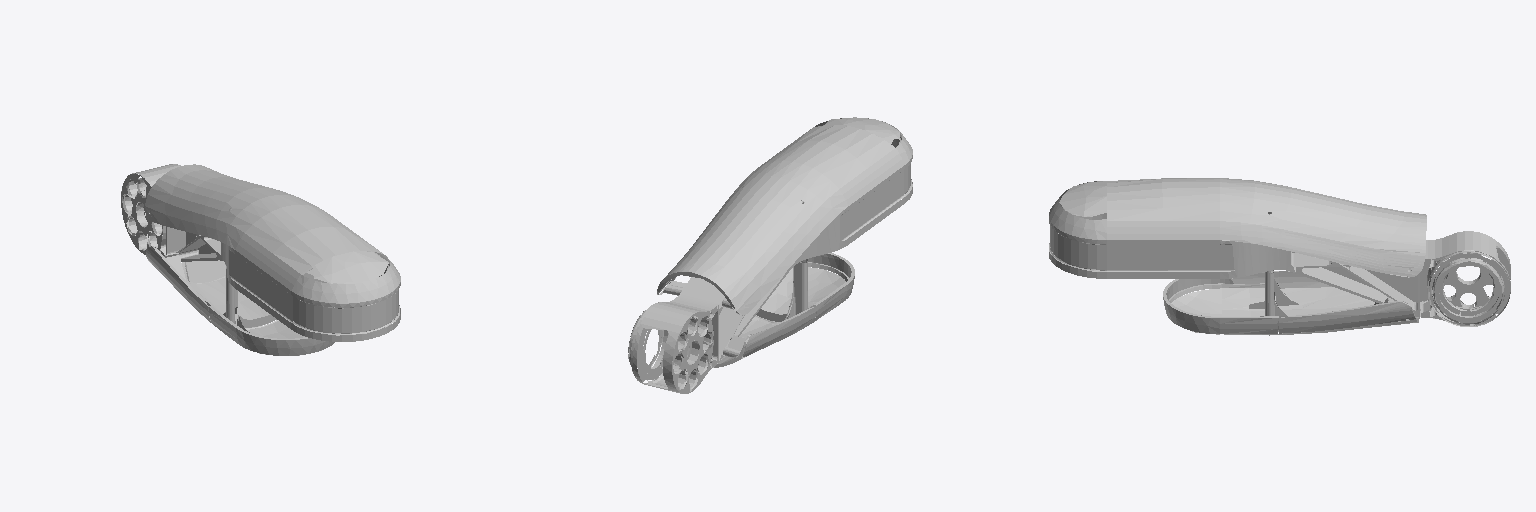
Rendered from left_calf.stl.obj.
3 views of the same model, side by side, from view 1: azimuth 30°, elevation 25°; view 2: azimuth 150°, elevation 25°; view 3: azimuth 270°, elevation 25° (orthographic).
Visible parts, largest first — view 1: <STL_BINARY>; view 2: <STL_BINARY>; view 3: <STL_BINARY>.
Part boxes in pixels (left/top/right/bottom): <STL_BINARY>: left=121, top=164, right=400, bottom=355; <STL_BINARY>: left=628, top=117, right=912, bottom=393; <STL_BINARY>: left=1049, top=178, right=1510, bottom=335.
Size of the model in its own units: 0.1302 by 0.174 by 0.5123.